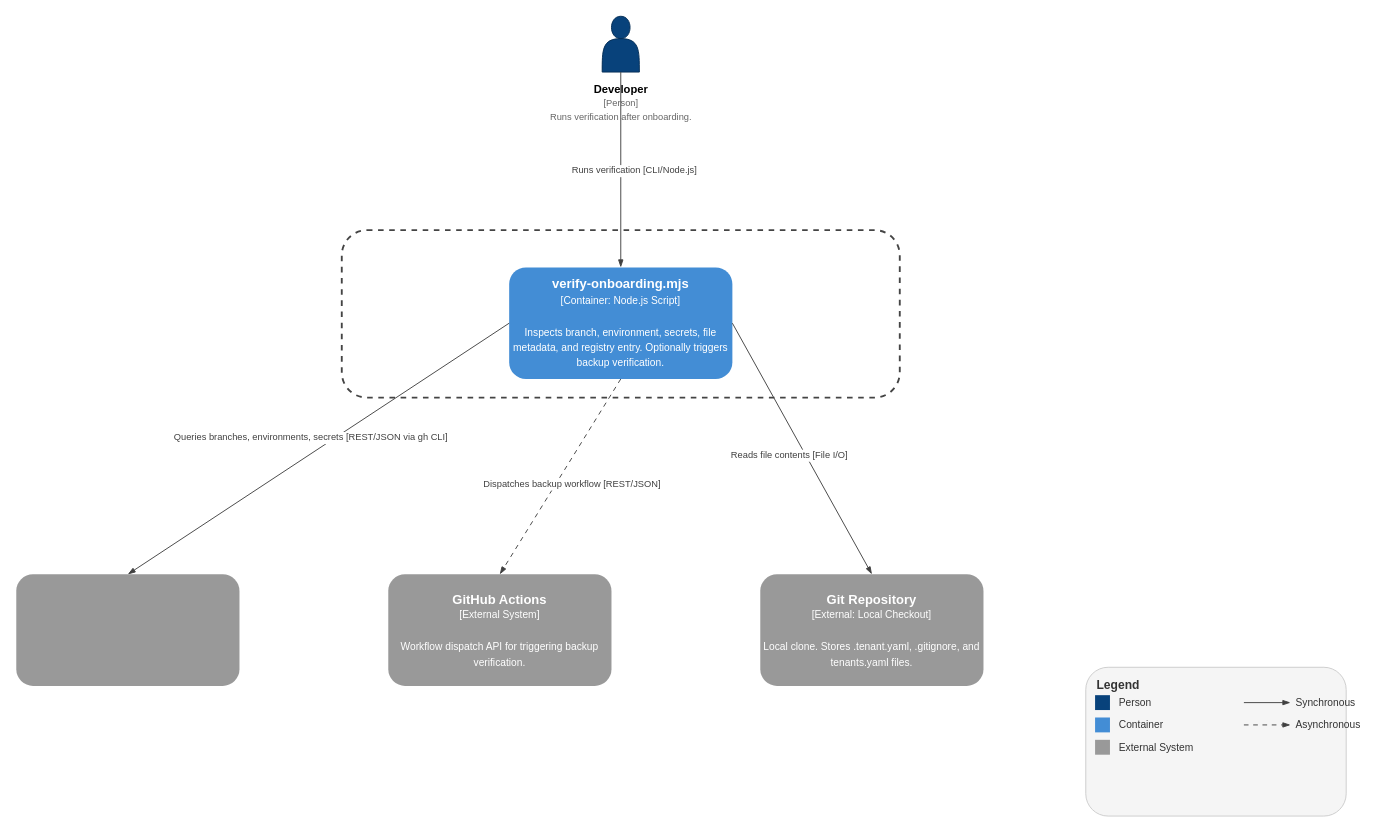
Image size: 1393x832. Some labels were removed from this diagram. Here are the shapes that lost their labels. From the top down, the box of each, then its label:
(340, 229, 900, 398): Onboarding Verification [Software System]
(16, 574, 239, 685): GitHub API [External System] REST API for branches, environments, and secrets.
